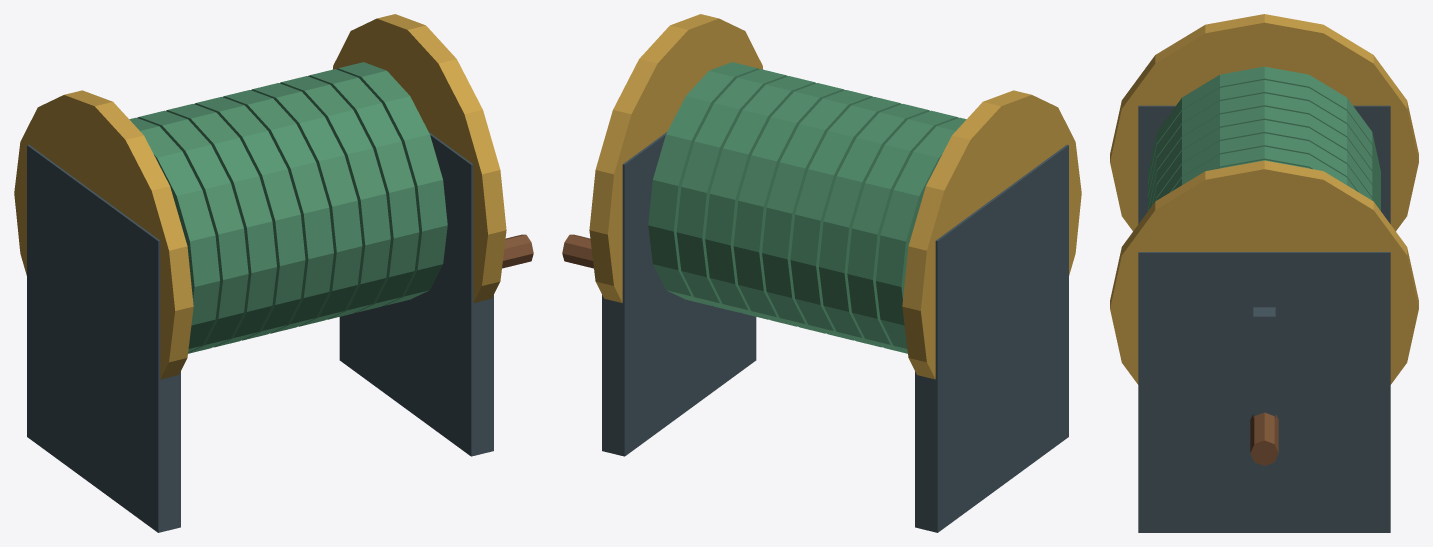
The model's file is hose_reel.glb.
The picture shows the model from 3 angles, left to right: view 1: azimuth 30°, elevation 25°; view 2: azimuth 150°, elevation 25°; view 3: azimuth 270°, elevation 25°; orthographic projection. The views are drawn at different scales.
Visible parts, largest first — view 1: hose_reel; view 2: hose_reel; view 3: hose_reel.
Part boxes in pixels (x1,y1,x2,y2): hose_reel: (14,14,533,532); hose_reel: (562,14,1081,532); hose_reel: (1110,14,1418,532).
Bounding box in the file's own units: 1.53 × 1.27 × 0.98.
